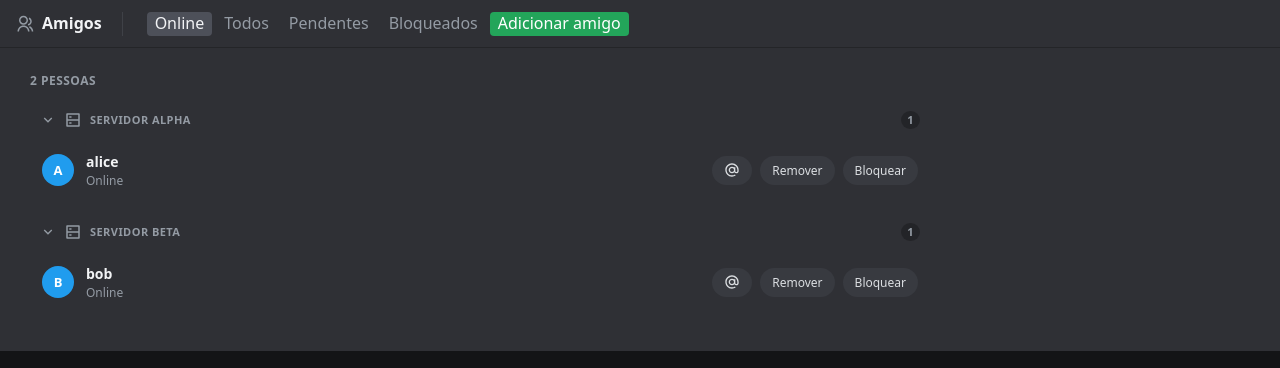
Test: FriendsHome › agrupa amigos por servidor e permite expandir/recolher com persistencia no localStorage
Check: the text "Servidor Alpha" is shown, box [90, 112, 191, 127]
Check: the text "Servidor Beta" is shown, box [90, 224, 180, 239]
Step 1. Click the button "Servidor Alpha 1" → coordinates (140, 120), box [30, 103, 930, 137]
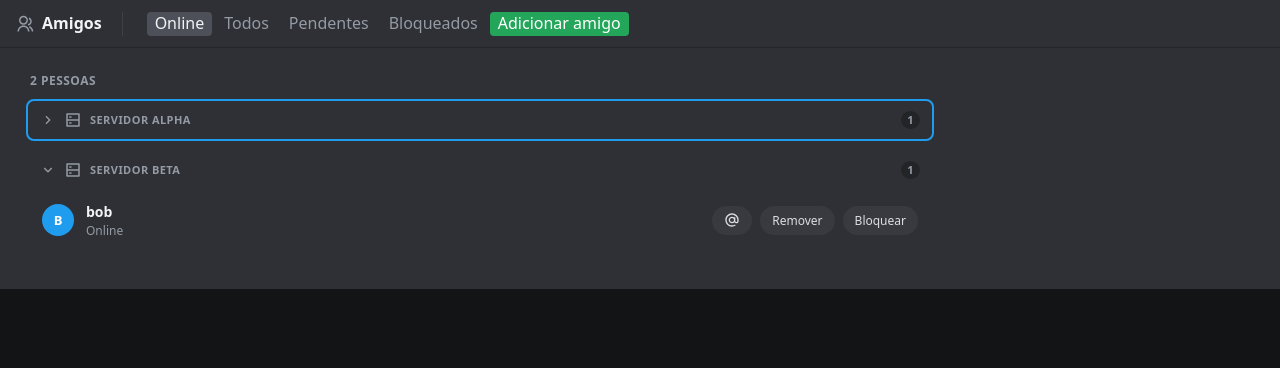
Check: the text "bob" is shown, box [86, 202, 112, 220]
Check: the button "alice" is gone
Step 2. Click the button "Servidor Alpha 1" → coordinates (140, 120), box [30, 103, 930, 137]
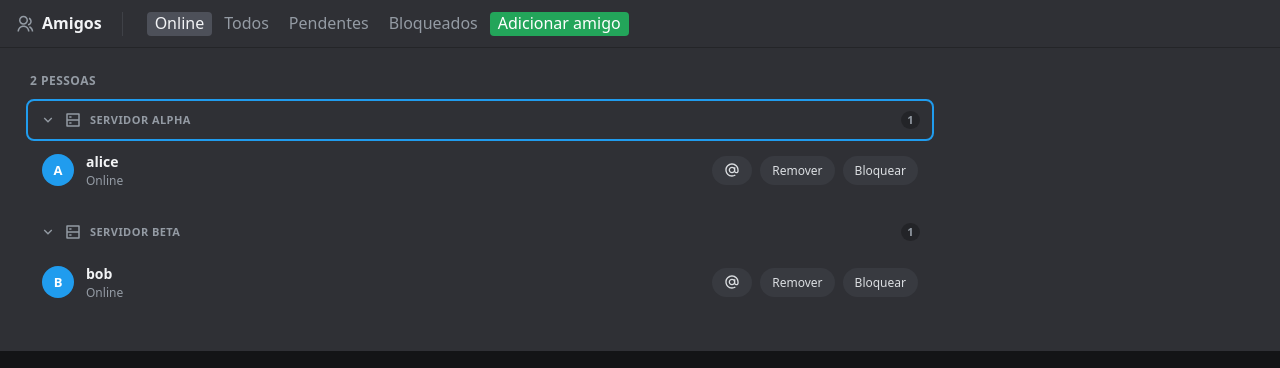
Check: the text "alice" is shown, box [86, 152, 118, 170]
